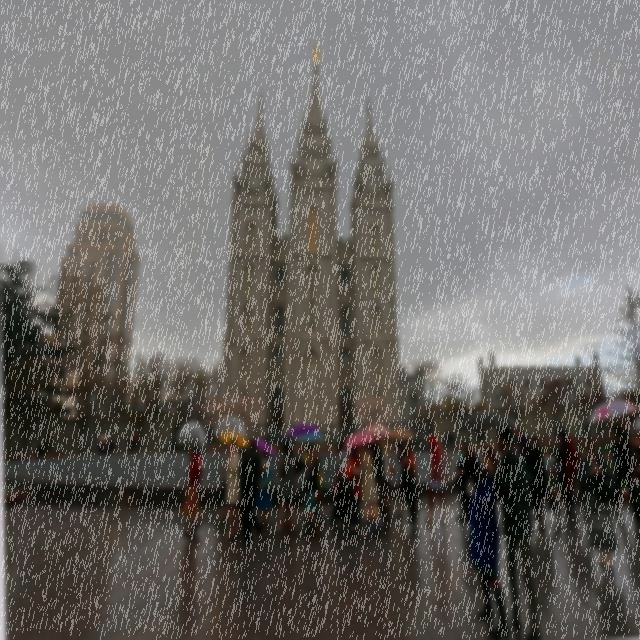pessoa: (485, 425, 543, 639), (467, 443, 512, 640), (576, 437, 619, 572), (349, 444, 385, 540), (518, 432, 546, 532), (529, 436, 562, 520), (274, 436, 300, 534), (304, 443, 327, 538), (611, 423, 635, 514), (244, 437, 264, 541), (424, 434, 446, 526), (304, 445, 324, 542), (224, 436, 242, 542), (182, 444, 202, 536), (185, 439, 205, 529), (342, 445, 362, 535), (280, 436, 298, 530), (222, 439, 241, 528), (328, 442, 348, 524), (366, 434, 386, 514), (549, 429, 568, 511), (378, 438, 396, 524), (562, 436, 581, 516), (453, 438, 470, 522), (401, 440, 418, 522), (255, 450, 271, 524), (394, 438, 408, 518), (464, 447, 482, 498), (336, 439, 348, 479), (303, 448, 309, 524), (631, 432, 639, 480), (623, 416, 640, 438), (96, 436, 115, 455), (440, 430, 456, 452), (36, 438, 50, 460), (514, 424, 524, 452), (238, 492, 244, 538), (127, 434, 140, 454), (475, 424, 487, 445), (628, 435, 634, 473), (240, 440, 250, 462), (554, 418, 565, 438), (583, 420, 593, 440), (224, 510, 236, 522), (312, 442, 320, 453), (635, 412, 639, 431), (228, 446, 232, 456)
